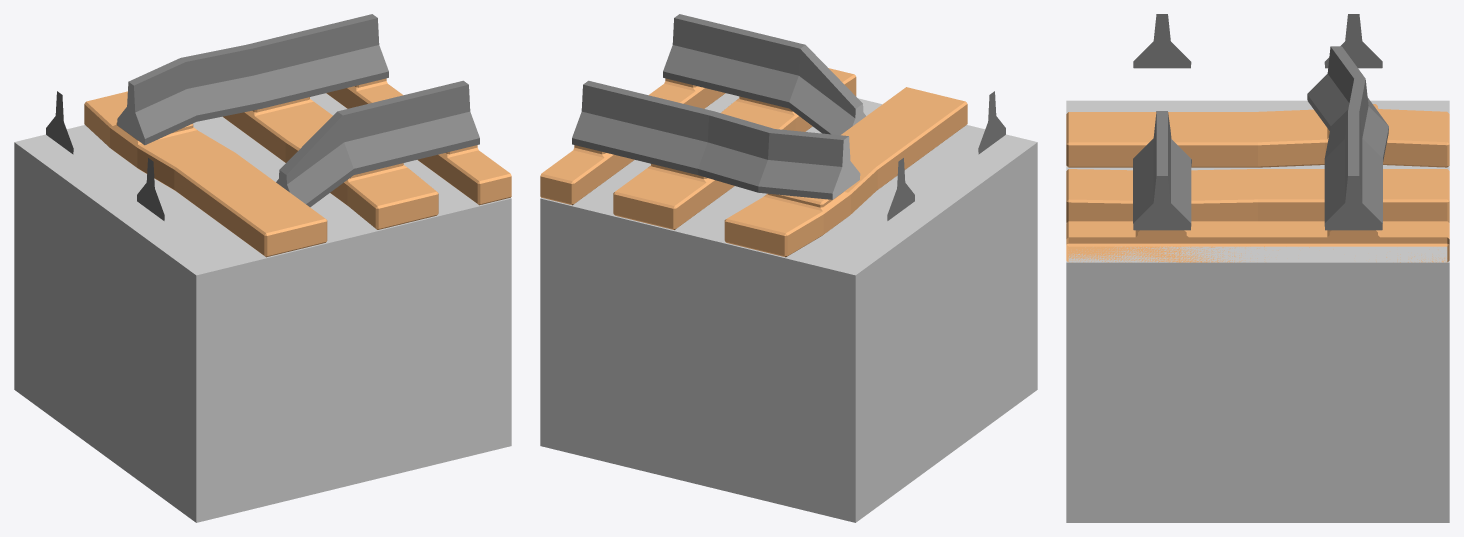
The model's file is Rail_Classique_004.fbx.
3 renders of one model, left to right at view 1: azimuth 30°, elevation 25°; view 2: azimuth 150°, elevation 25°; view 3: azimuth 270°, elevation 25°, orthographic. The views are drawn at different scales.
Parts seen in each view (by area): view 1: Rail Classique.004; view 2: Rail Classique.004; view 3: Rail Classique.004.
Boxes of the visible parts, x1=… form: Rail Classique.004: x1=14, y1=14, x2=511, y2=522; Rail Classique.004: x1=540, y1=14, x2=1037, y2=522; Rail Classique.004: x1=1066, y1=14, x2=1449, y2=522.
Bounding box in the file's own units: 100 × 100 × 100.
